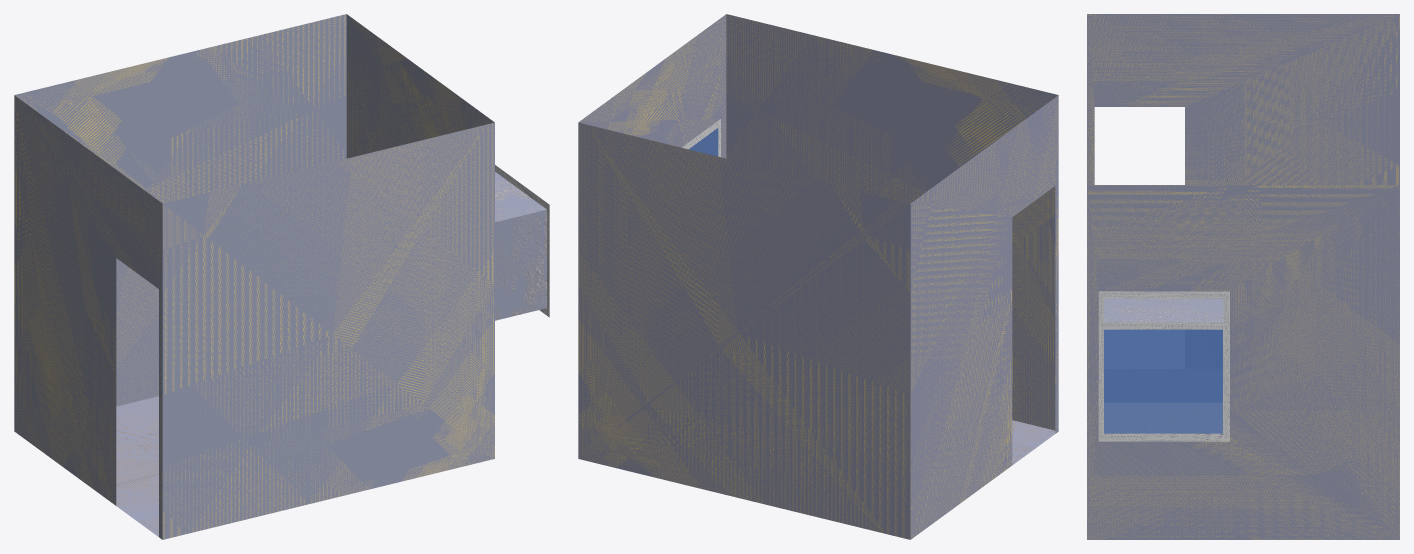
The model's file is DES050.obj.
3 views of the same model, side by side, from view 1: azimuth 30°, elevation 25°; view 2: azimuth 150°, elevation 25°; view 3: azimuth 270°, elevation 25° (orthographic). The views are drawn at different scales.
Visible parts, largest first — view 1: Mesh5 DES050 Model, Mesh1 Group1 DES050 Model; view 2: Mesh5 DES050 Model, Mesh1 Group1 DES050 Model; view 3: Mesh5 DES050 Model, Mesh1 Group1 DES050 Model.
Boxes of the visible parts, x1,y1,x2,y2 form: Mesh5 DES050 Model: [14, 14, 494, 539]; Mesh1 Group1 DES050 Model: [495, 165, 549, 320]; Mesh5 DES050 Model: [578, 14, 1058, 539]; Mesh1 Group1 DES050 Model: [682, 119, 720, 157]; Mesh5 DES050 Model: [1087, 14, 1399, 539]; Mesh1 Group1 DES050 Model: [1098, 291, 1229, 441].
Size of the model in its own units: 3.67 by 3 by 2.4.
6 materials, 2 textured.
